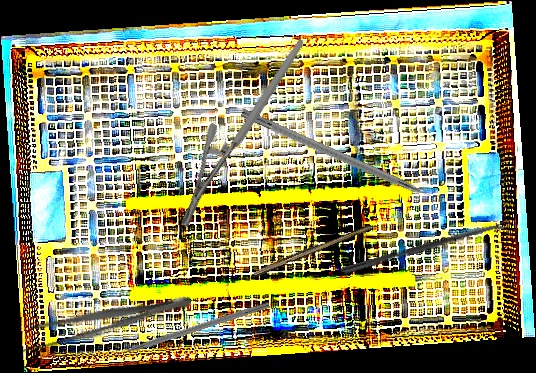Dressing Forceps: (16, 285, 195, 357)
Hook Surgical: (239, 108, 445, 209), (104, 299, 271, 361)
Needle Holder: (135, 37, 351, 232)
Scalpel Handle: (252, 220, 372, 280)
Surgical Spoon: (339, 219, 511, 277)
